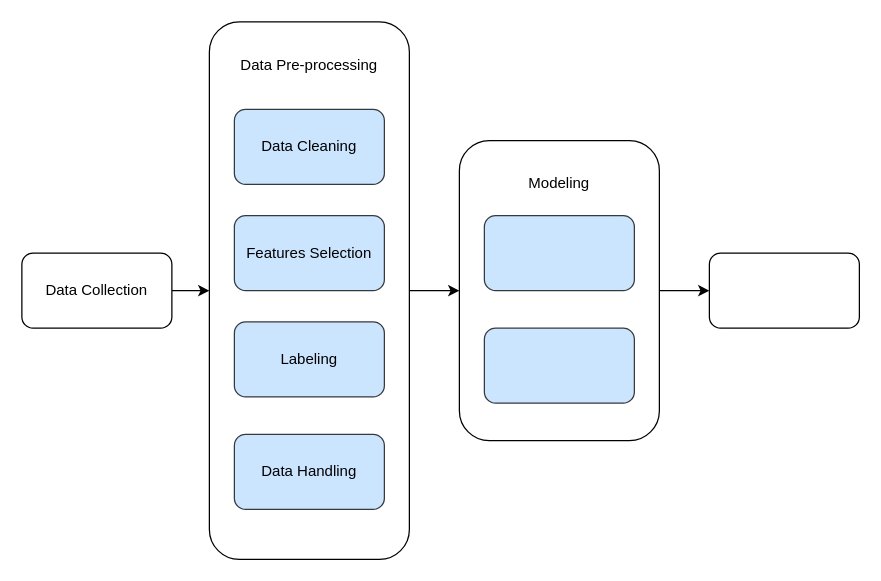
Some shapes in this 881 by 581 pixel diagram are drawn without their labels. The shapes that lost their labels are listed below. From the top down, each one's centre as x and y in pixels, then its label:
At point (558, 252): "Feature Extraction".
At point (783, 290): "Model Evaluation".
At point (558, 365): "Classification".
